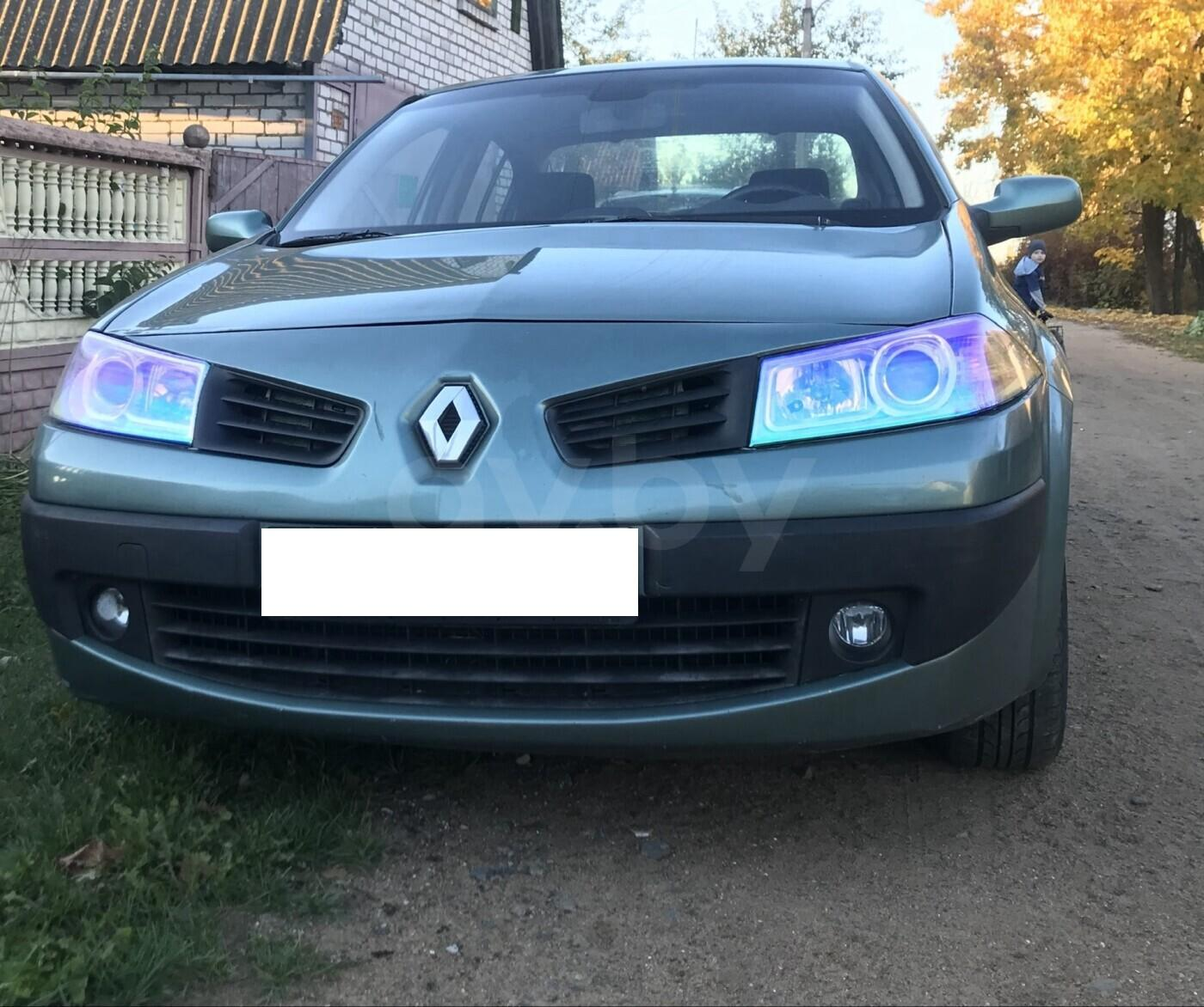Megane_2005-2009: (29, 50, 1127, 788)
